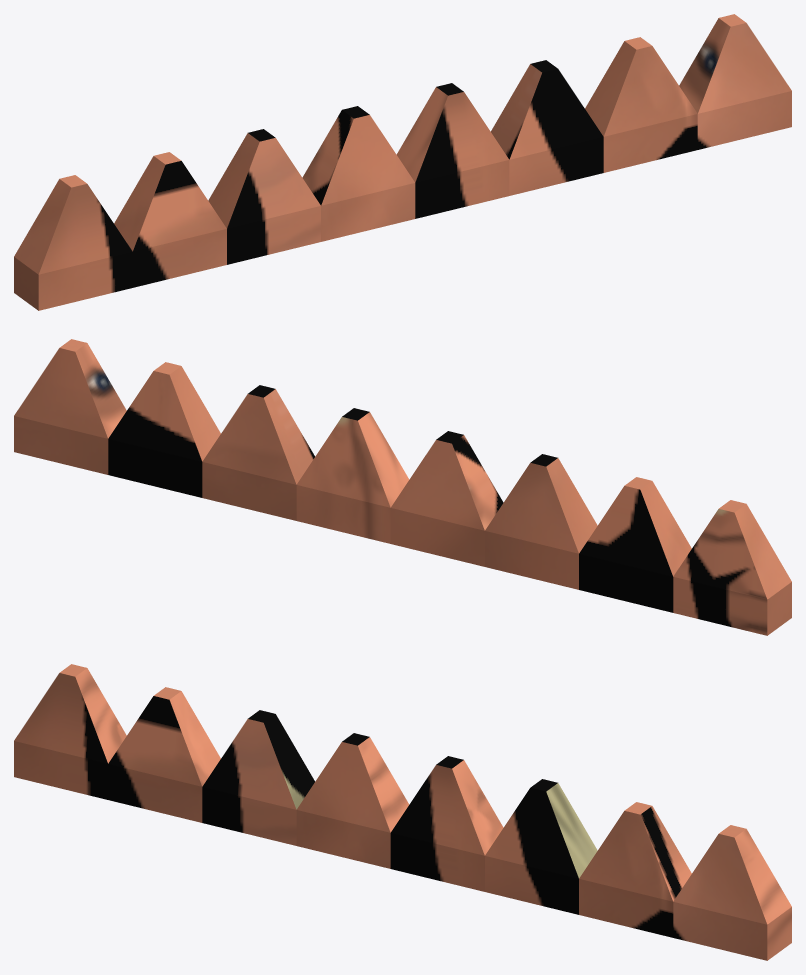
Rendered from Merlons_04.fbx.
3 views of the same model, one above another, from view 1: azimuth 30°, elevation 25°; view 2: azimuth 150°, elevation 25°; view 3: azimuth 330°, elevation 25° (orthographic).
Visible parts, largest first — view 1: Merlons_04; view 2: Merlons_04; view 3: Merlons_04.
Boxes of the visible parts, x1,y1,x2,y2 form: Merlons_04: (14,14,791,310); Merlons_04: (14,339,791,635); Merlons_04: (14,664,791,960).
Size of the model in its own units: 3.99 by 0.5521 by 0.2257.
